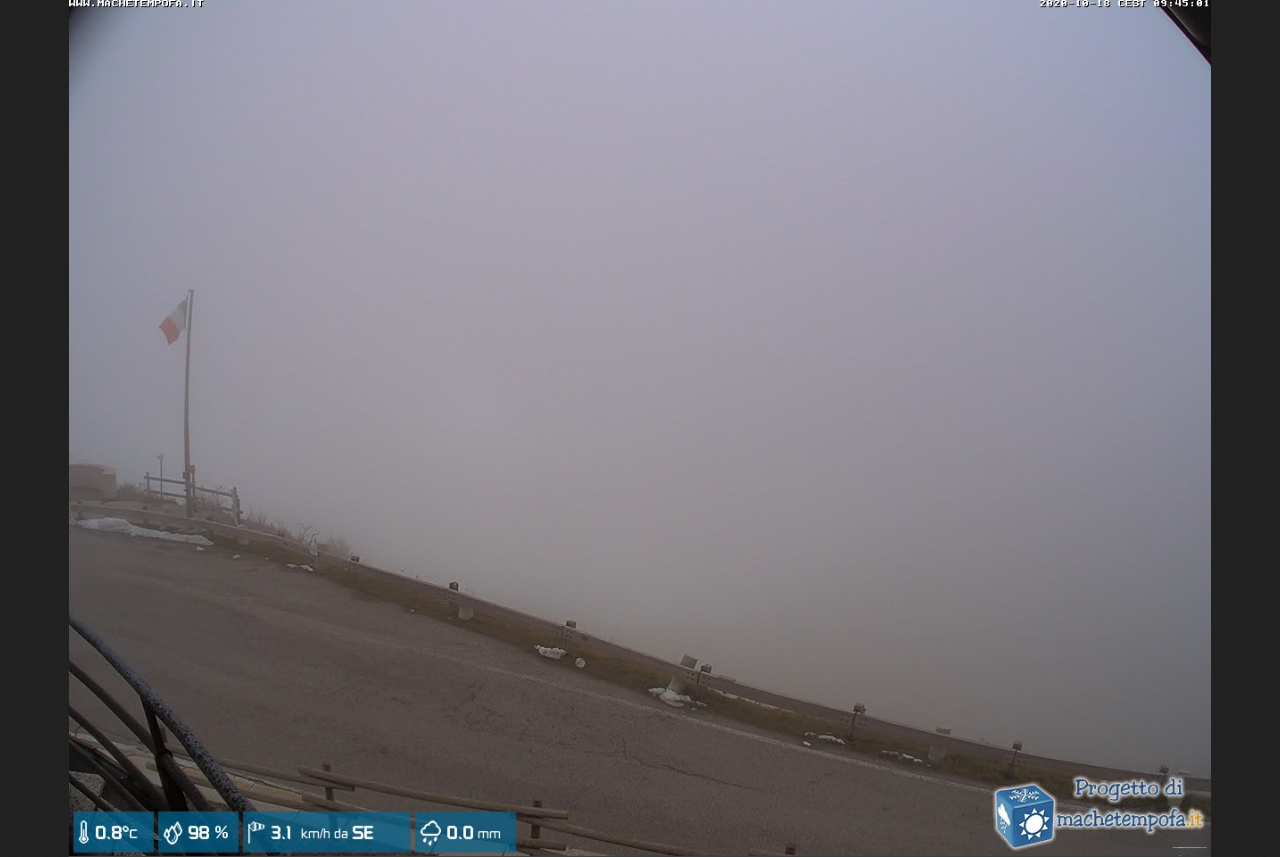maybe: (157, 294, 190, 342)
